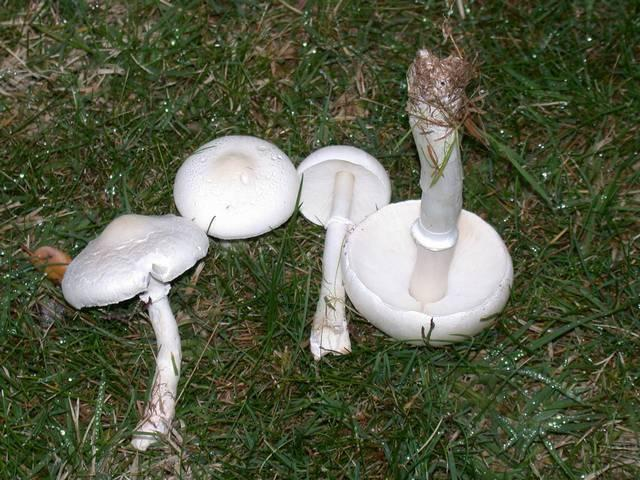poisonous_mushroom: (340, 47, 514, 346), (59, 211, 209, 451), (295, 143, 392, 360), (172, 133, 299, 241)
